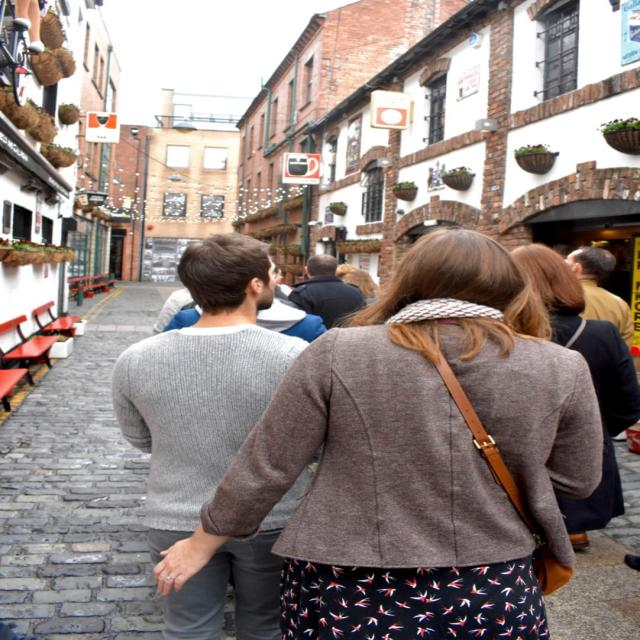body: (141, 224, 613, 639), (108, 230, 314, 640), (501, 241, 640, 541), (143, 233, 434, 371), (562, 244, 636, 349)
